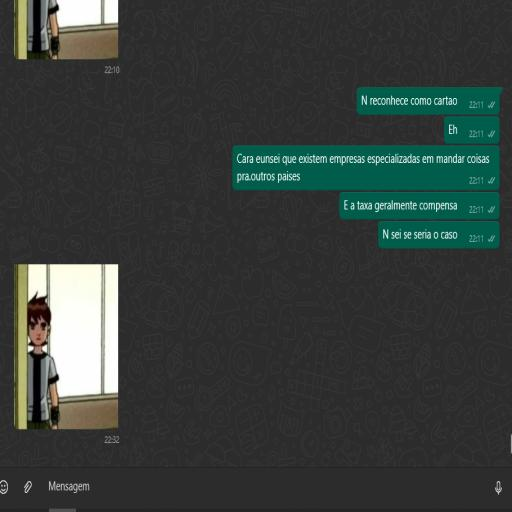mensagem-enviada: (355, 87, 502, 121)
